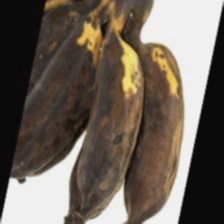banana: (41, 53, 219, 214)
